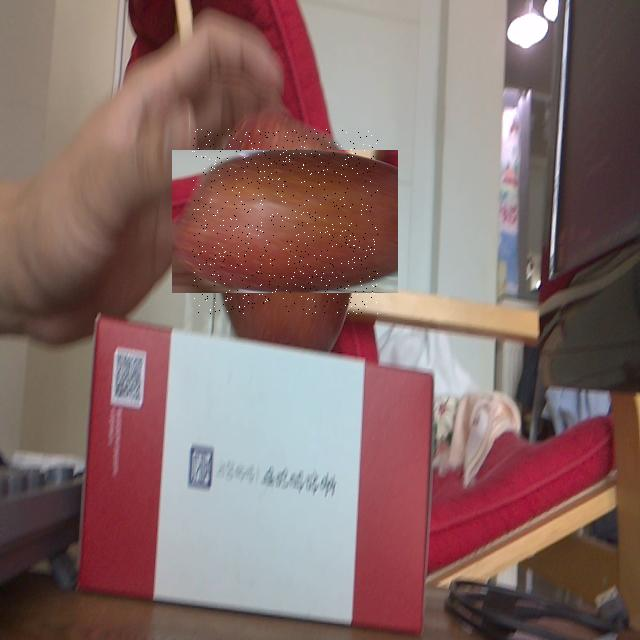apple: (192, 129, 378, 314)
